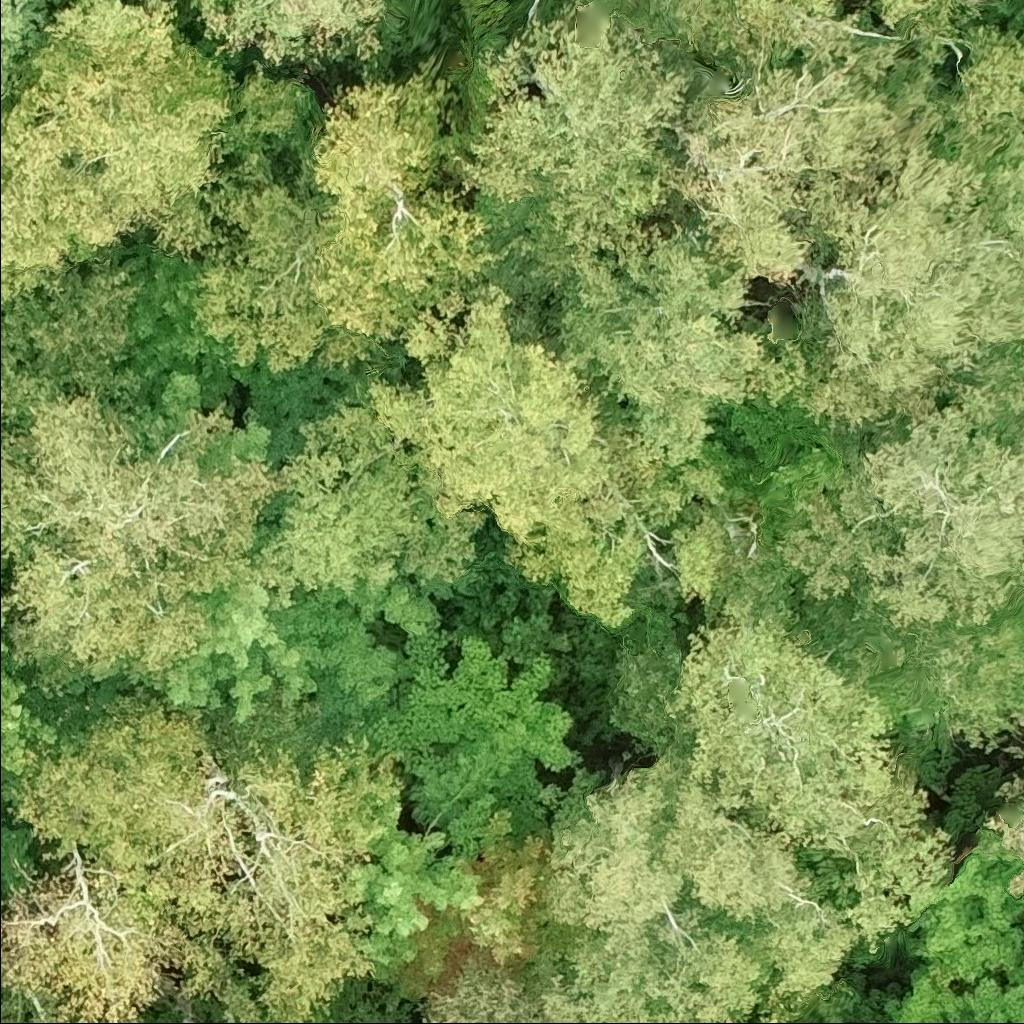crown: (4, 686, 405, 1023), (661, 594, 956, 958), (0, 360, 287, 674), (539, 754, 859, 1023), (357, 618, 586, 859), (0, 862, 263, 1023), (390, 807, 580, 1005), (360, 828, 486, 987), (0, 568, 70, 779), (420, 956, 548, 1023), (189, 997, 270, 1023), (0, 995, 68, 1023), (754, 1001, 801, 1023), (726, 1019, 752, 1023), (322, 1019, 342, 1023), (695, 1019, 706, 1023)
